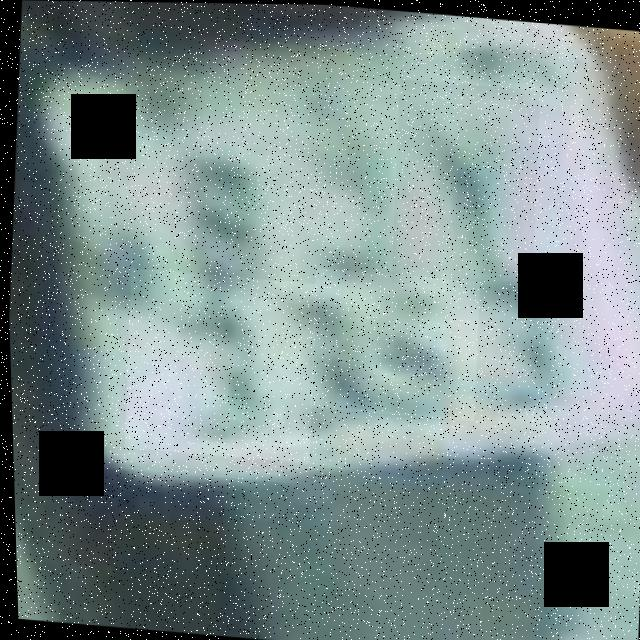3: (117, 268, 319, 462), (404, 243, 611, 422)
5: (305, 266, 481, 419)
P: (139, 129, 300, 309)
T: (385, 77, 544, 292)
